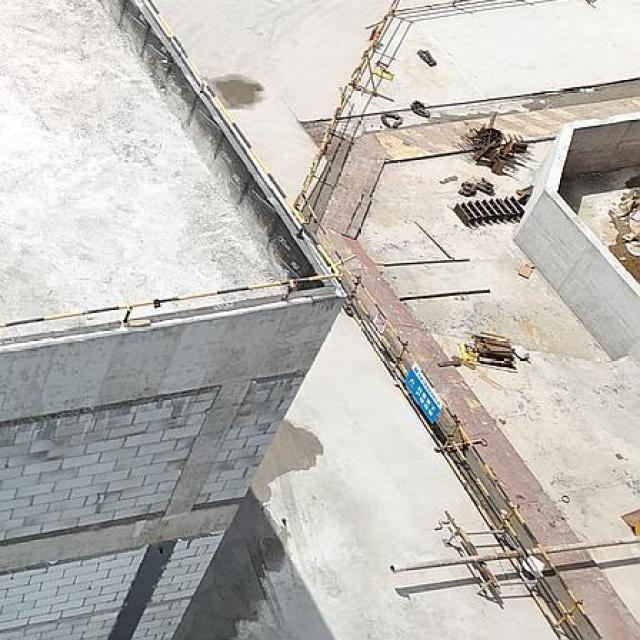edge_guardrail: (0, 0, 344, 328)
